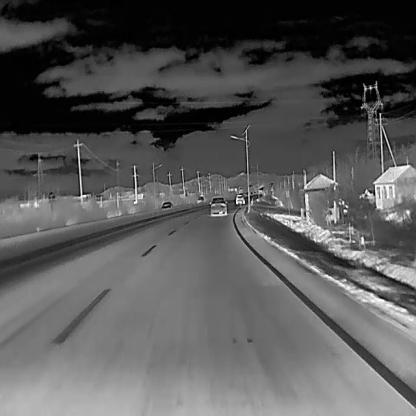car: (210, 196, 228, 216), (235, 193, 245, 205), (160, 201, 173, 210), (196, 195, 204, 203)
